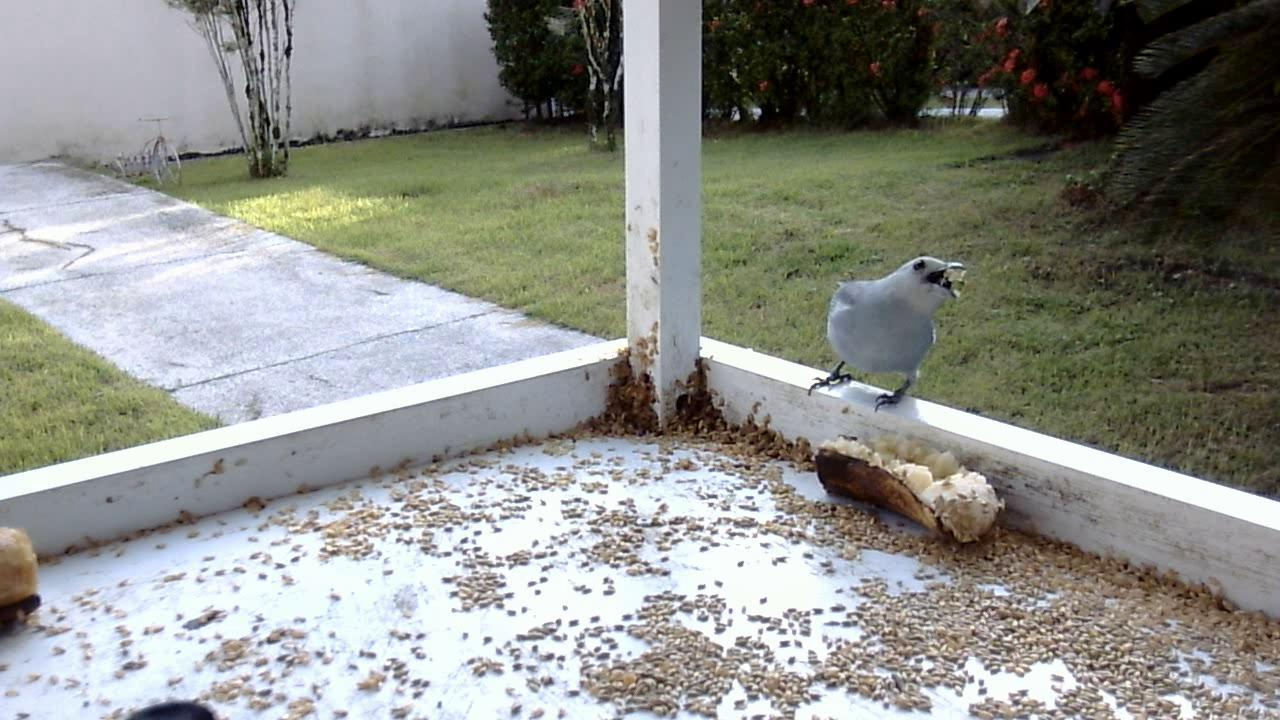sanhaco_da_amazonia: (807, 253, 961, 419)
